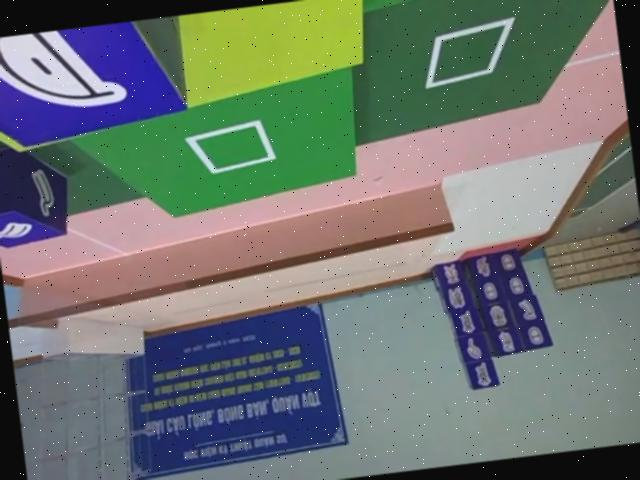R2 Real Blue: (0, 16, 192, 152), (0, 16, 186, 153), (0, 137, 77, 248)
